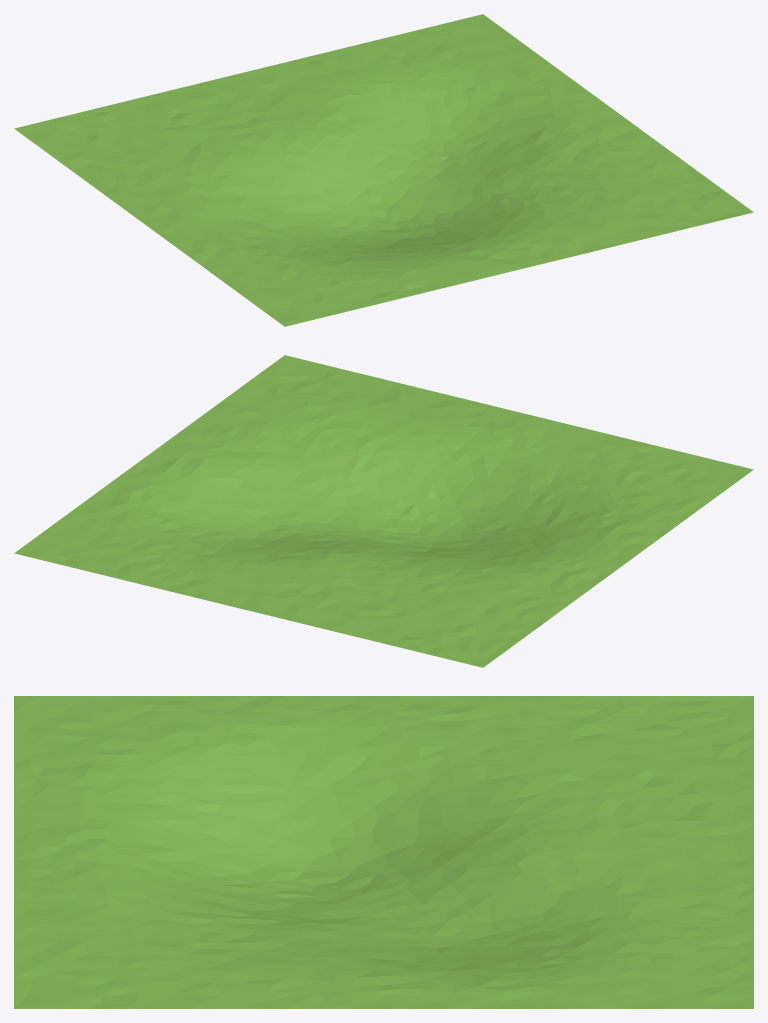
File: MT_Terrain_L_b_06_LOD.fbx
The picture shows the model from 3 angles, top to bottom: view 1: azimuth 30°, elevation 25°; view 2: azimuth 150°, elevation 25°; view 3: azimuth 270°, elevation 25°; orthographic projection. The views are drawn at different scales.
Parts seen in each view (by area): view 1: MT_Terrain_L_b_06_LOD0; view 2: MT_Terrain_L_b_06_LOD0; view 3: MT_Terrain_L_b_06_LOD0.
Part boxes in pixels (box(x1,y1,x2,y2)): MT_Terrain_L_b_06_LOD0: box(14, 14, 753, 326); MT_Terrain_L_b_06_LOD0: box(14, 355, 753, 667); MT_Terrain_L_b_06_LOD0: box(14, 696, 753, 1008).
Size of what is drawn, in the model's own units: 10000 by 633 by 10000.
